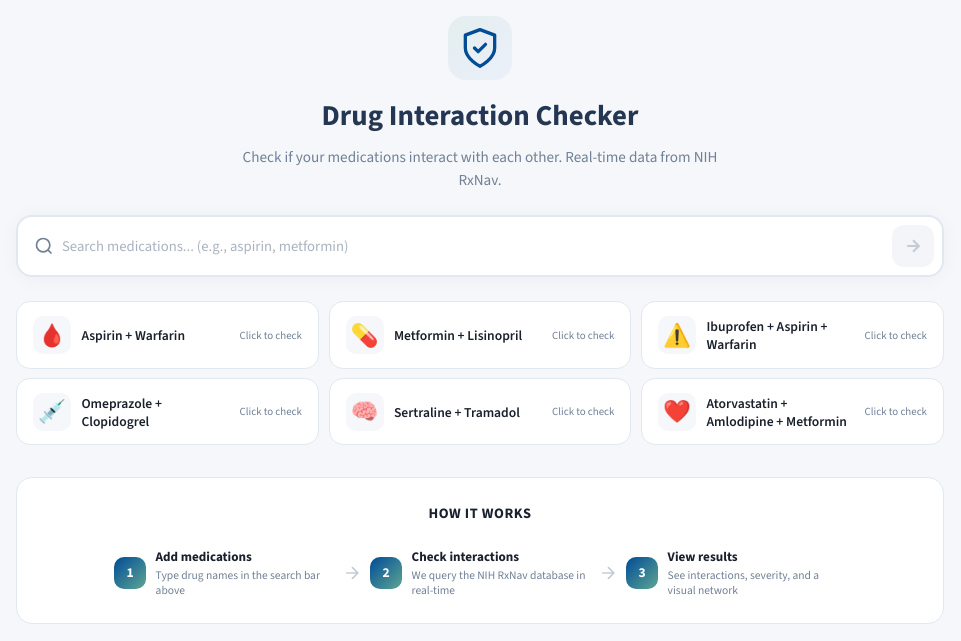
Scenario: DrugInteractionPage › loads a quick-check combo on click
Click the text "Aspirin + Warfarin" at (133, 335), box [81,326,185,344]
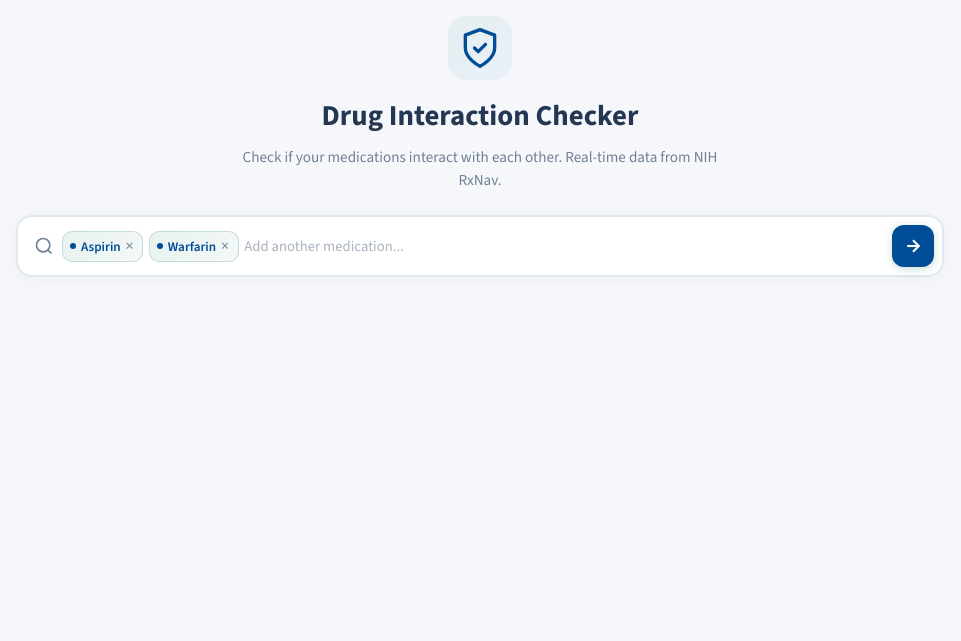
Check: the text "aspirin" is shown, box [81,238,121,255]
Check: the text "warfarin" is shown, box [168,238,216,255]
